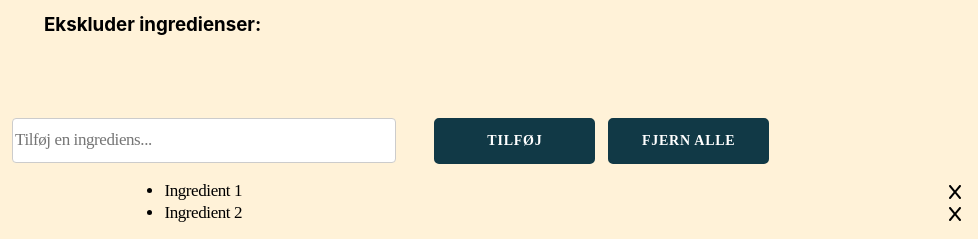
when cross is clicked ingredient is removed
Check: the list item "Ingredient 1" is shown, box [164, 180, 242, 202]
Click the picture with test id "RemoveIngredientCross" in the row of "Ingredient 1": coordinates (955, 192) [949, 184, 961, 200]
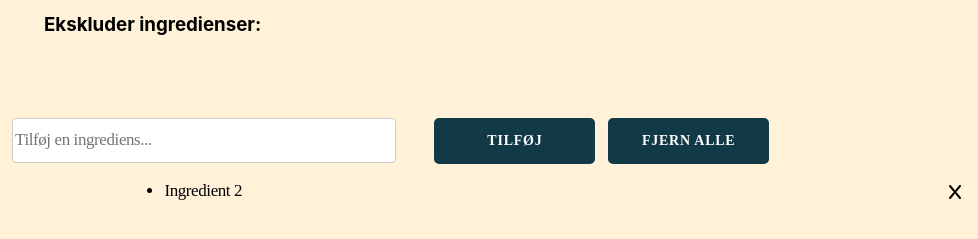
Check: the list item "Ingredient 1" is gone
